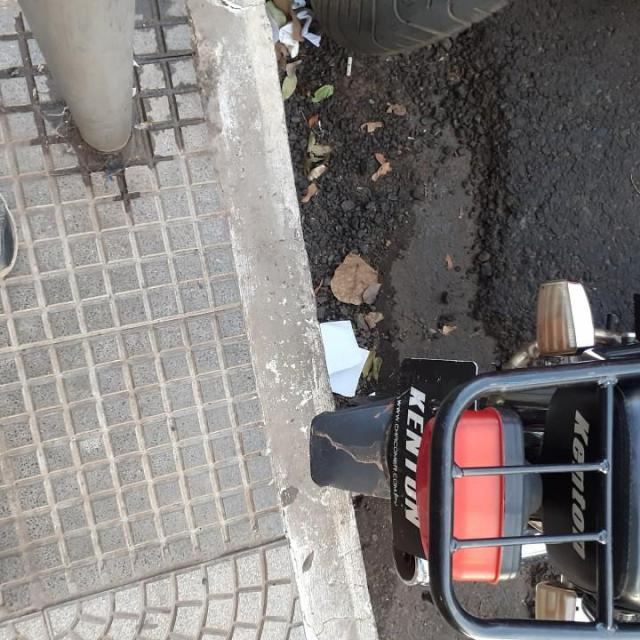litter: (319, 320, 370, 396), (292, 0, 321, 47), (281, 22, 300, 58), (344, 55, 355, 75)
